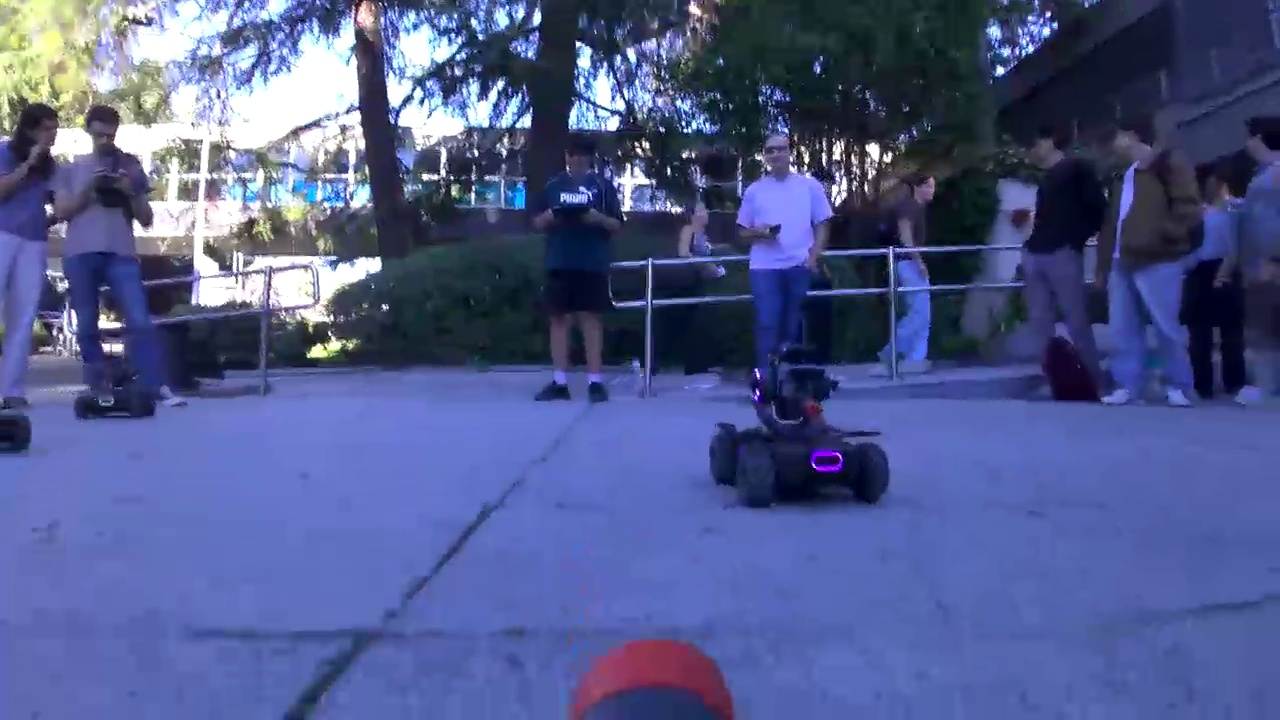robot: (689, 352, 906, 524), (72, 352, 157, 422)
